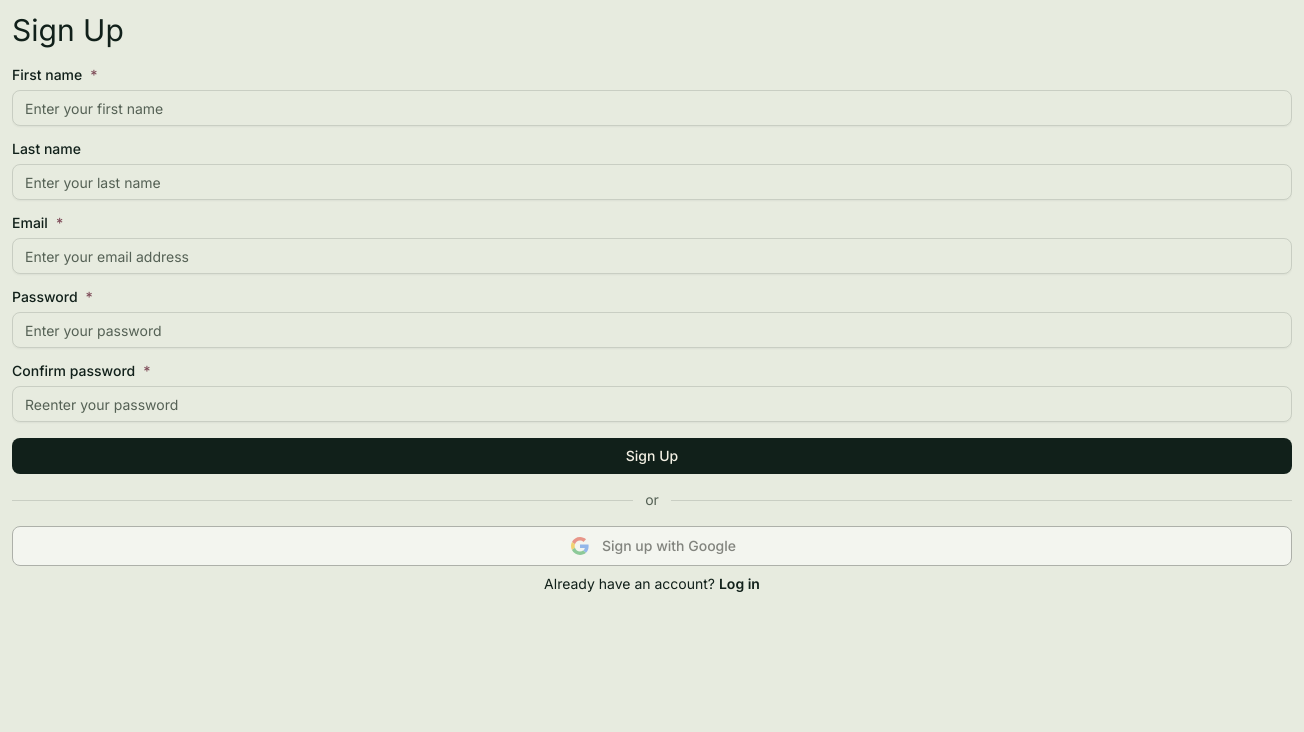
Test: SignupForm › validation › shows error when email is empty
The image size is (1304, 732).
Type "Galadriel" into the field labelled "First name *". click: (652, 108)
box: top-left (12, 90), bottom-right (1292, 126)
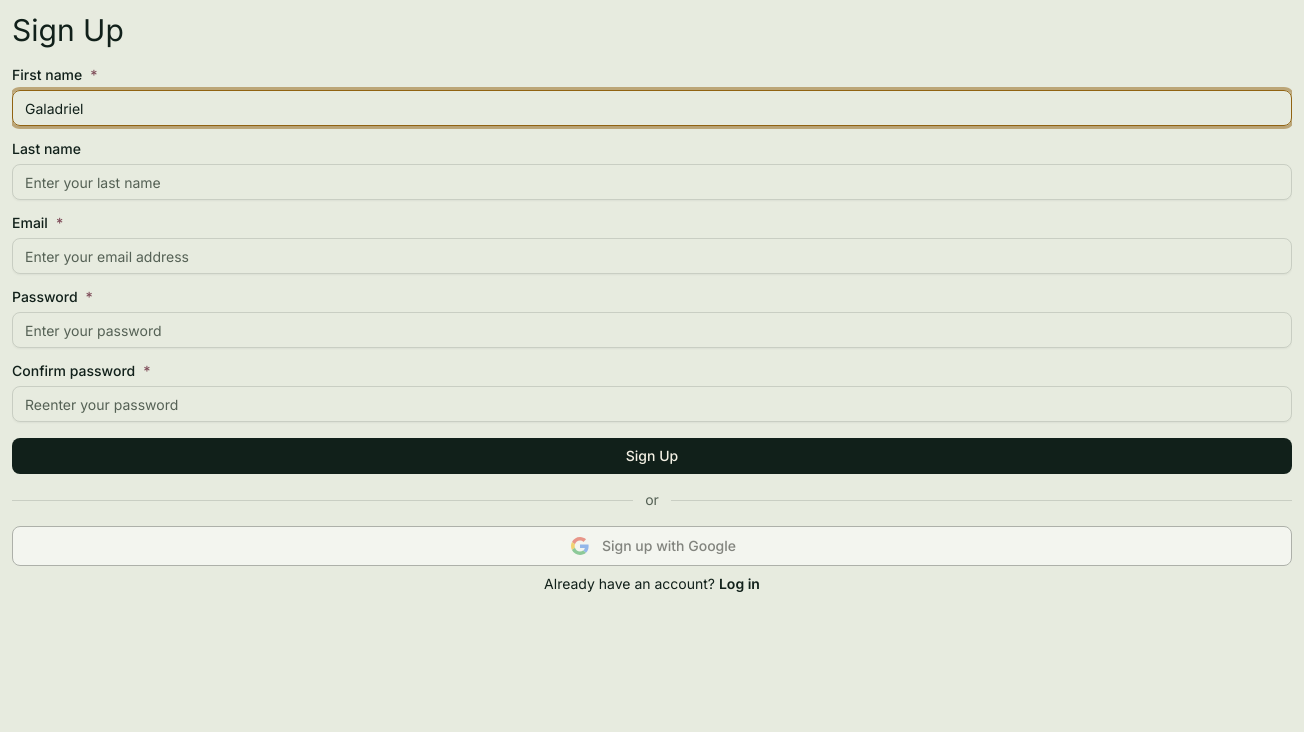
Type "huntsauron123" into the password field labelled "Password *". click: (652, 330)
box: top-left (12, 312), bottom-right (1292, 348)
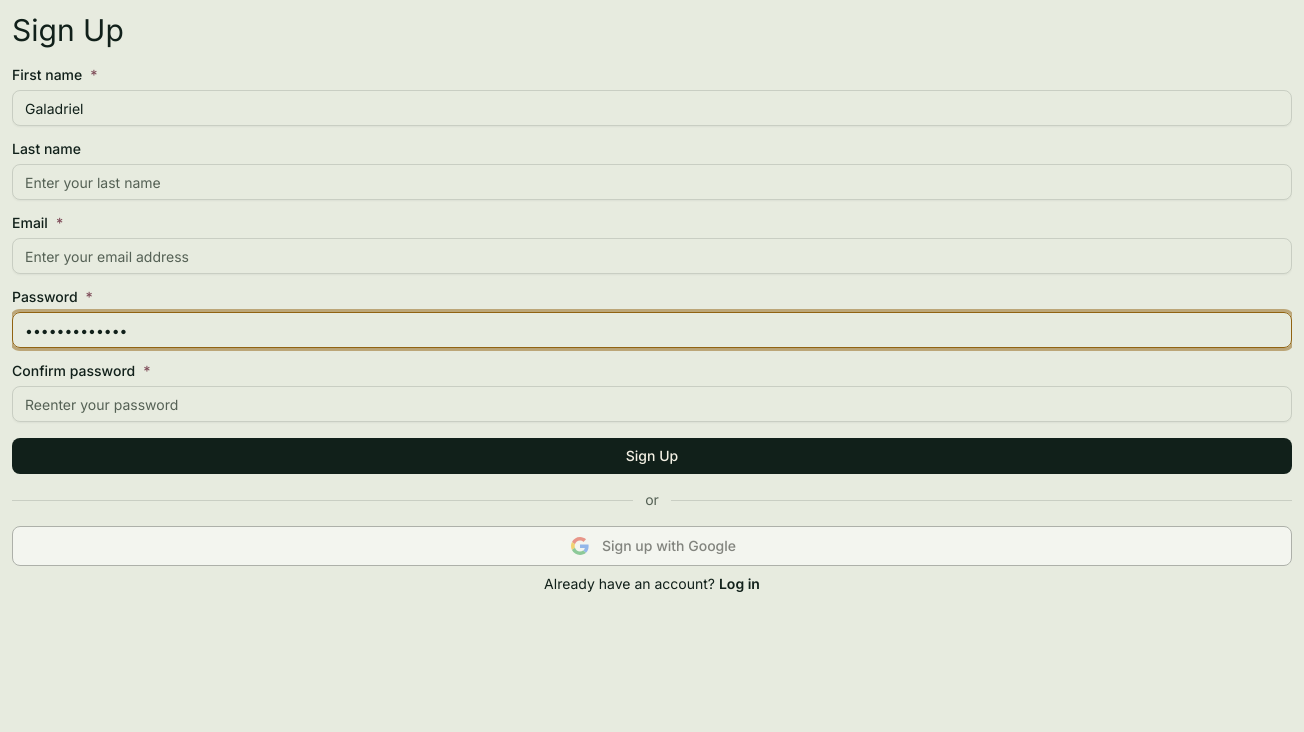
Type "huntsauron123" into the password field labelled "Confirm password *". click: (652, 404)
box: top-left (12, 386), bottom-right (1292, 422)
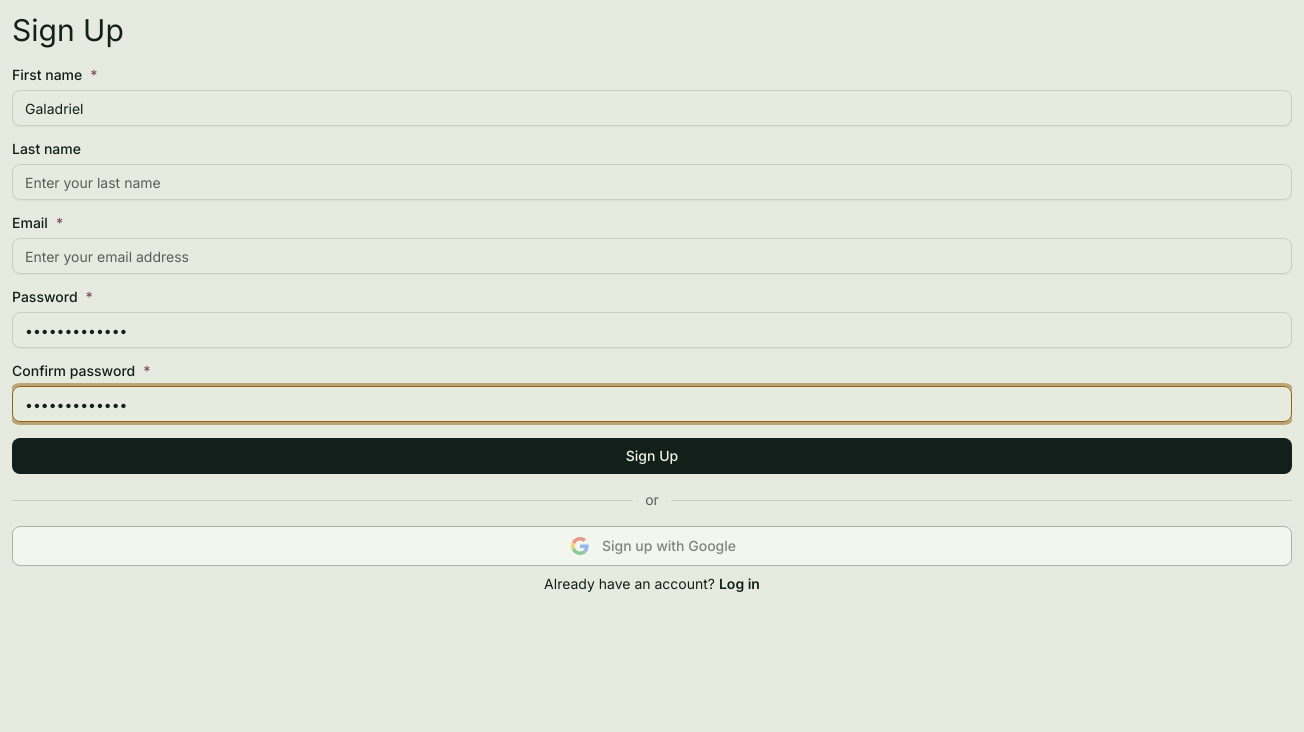
Click the button "Sign Up". click: (652, 456)
box: top-left (12, 438), bottom-right (1292, 474)
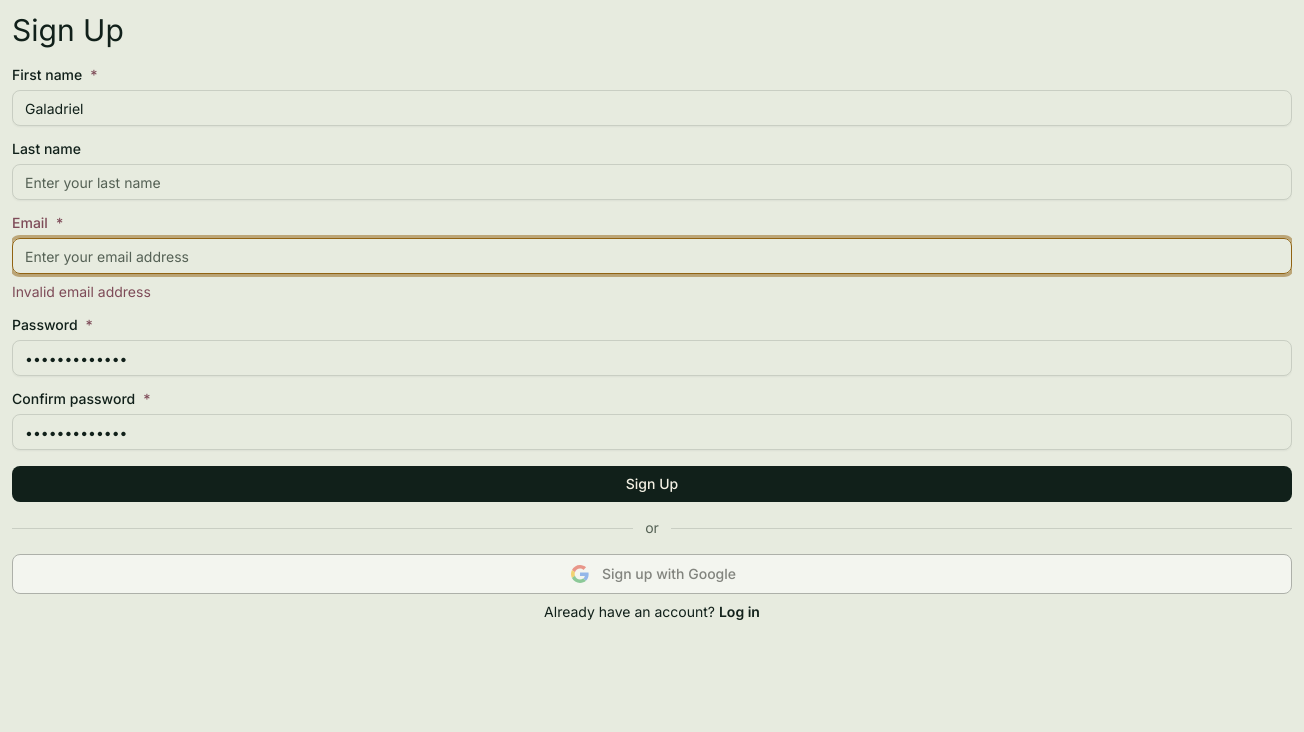
expect the text "Invalid email address" is shown: met, box top-left (12, 283), bottom-right (151, 300)
